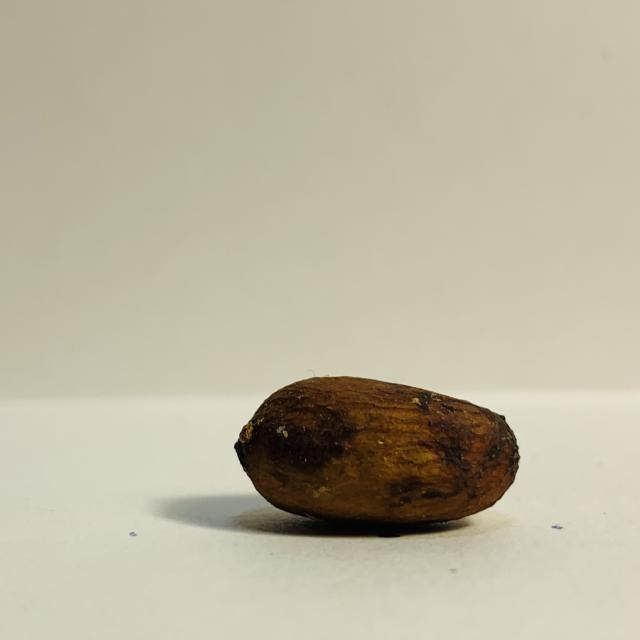Fine_cocoabeans: (71, 350, 582, 564)
